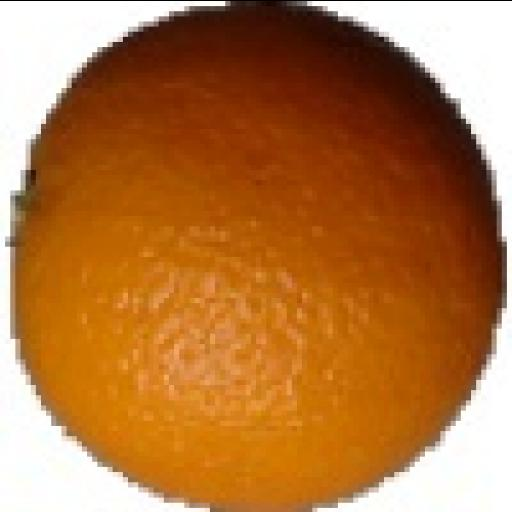orange: (16, 6, 501, 506)
